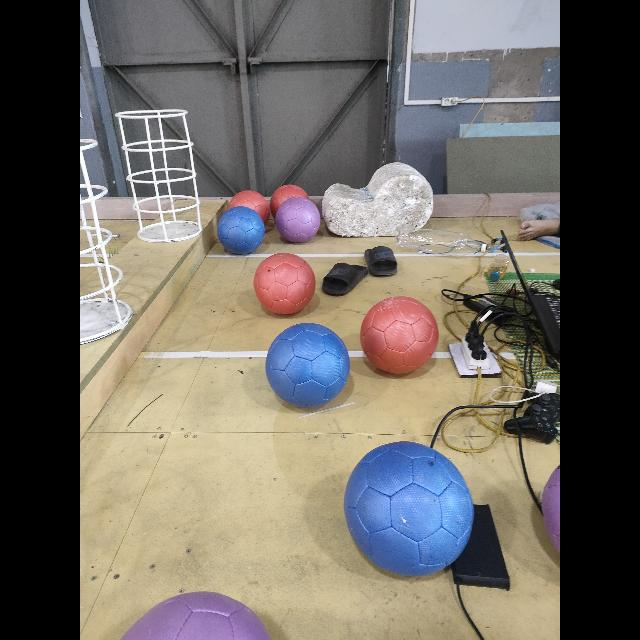B: (344, 442, 474, 576), (266, 323, 350, 407), (218, 206, 264, 254)
P: (122, 592, 272, 640), (276, 198, 320, 242), (542, 465, 560, 551)
R: (360, 296, 438, 374), (253, 252, 315, 314), (230, 190, 270, 224), (271, 185, 309, 218)
S: (114, 109, 206, 245), (80, 129, 132, 343)
